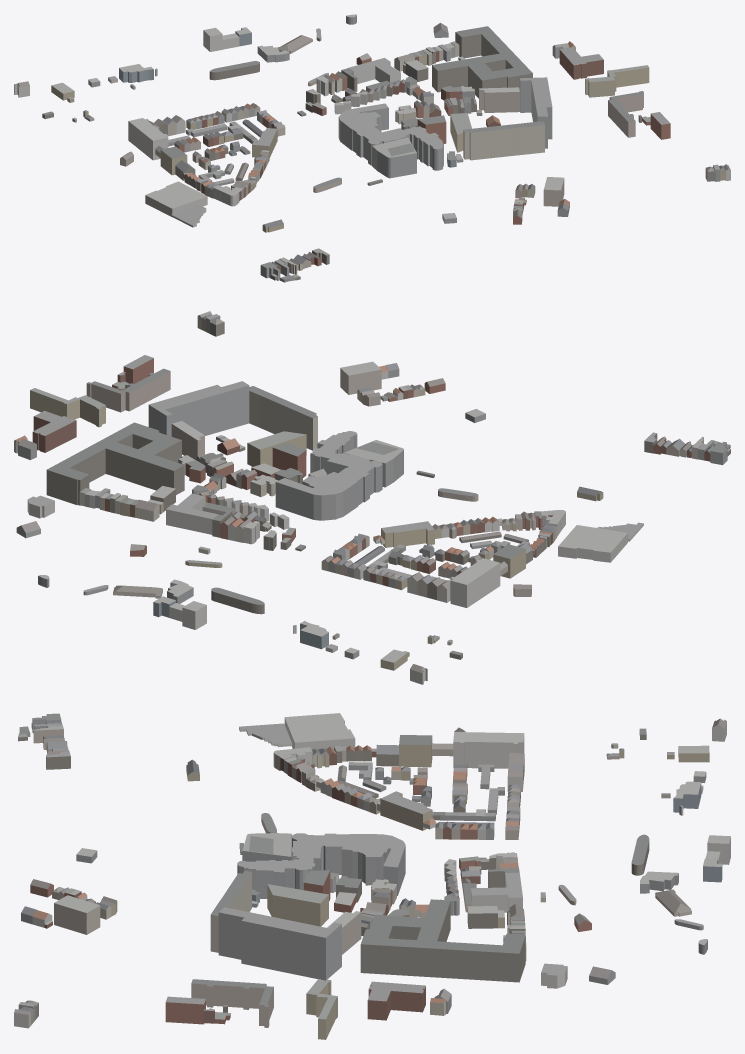
3 views of the same model, one above another, from view 1: azimuth 30°, elevation 25°; view 2: azimuth 150°, elevation 25°; view 3: azimuth 270°, elevation 25° (orthographic). The views are drawn at different scales.
Visible parts, largest first — view 1: relation/6034102, way/190597529, way/37742742, way/37742734, way/989412326, way/564403831, way/37742752, way/37742749, way/128382717, way/121384121, way/37742744, way/126130397 (+9 smaller); view 2: relation/6034102, way/190597529, way/37742734, way/37742742, way/37742749, way/989412326, way/128382717, way/37742752, way/121384121, way/126130397, way/839118203, way/128790932 (+9 smaller); view 3: relation/6034102, way/190597529, way/37742734, way/37742749, way/128382717, way/989412326, way/839118203, way/121384121, way/126832776, way/37742742, way/37742752, way/126130397 (+14 smaller).
Part boxes in pixels (left/top/right/bottom): relation/6034102: left=432, top=26, right=532, bottom=98; way/190597529: left=338, top=103, right=443, bottom=170; way/37742742: left=463, top=121, right=544, bottom=160; way/37742734: left=519, top=77, right=552, bottom=148; way/989412326: left=145, top=181, right=207, bottom=216; way/564403831: left=372, top=137, right=416, bottom=178; way/37742752: left=585, top=65, right=649, bottom=97; way/37742749: left=608, top=91, right=643, bottom=137; way/128382717: left=128, top=118, right=168, bottom=160; way/121384121: left=559, top=47, right=603, bottom=79; way/37742744: left=479, top=87, right=519, bottom=112; way/126130397: left=348, top=58, right=400, bottom=83; relation/6034102: left=46, top=422, right=184, bottom=505; way/190597529: left=275, top=431, right=382, bottom=520; way/37742734: left=148, top=381, right=249, bottom=436; way/37742742: left=249, top=386, right=317, bottom=450; way/37742749: left=86, top=368, right=170, bottom=412; way/989412326: left=558, top=525, right=627, bottom=562; way/128382717: left=450, top=558, right=500, bottom=607; way/37742752: left=30, top=388, right=105, bottom=427; way/121384121: left=32, top=410, right=76, bottom=452; way/126130397: left=166, top=493, right=217, bottom=534; way/839118203: left=247, top=431, right=306, bottom=466; way/128790932: left=381, top=521, right=434, bottom=547; relation/6034102: left=360, top=899, right=525, bottom=982; way/190597529: left=237, top=833, right=405, bottom=898; way/37742734: left=218, top=907, right=341, bottom=980; way/37742749: left=191, top=979, right=273, bottom=1027; way/128382717: left=453, top=732, right=524, bottom=768; way/989412326: left=284, top=713, right=355, bottom=749; way/839118203: left=267, top=884, right=328, bottom=926; way/121384121: left=367, top=981, right=425, bottom=1020; way/126832776: left=54, top=895, right=100, bottom=934; way/37742742: left=210, top=871, right=251, bottom=952; way/37742752: left=306, top=979, right=337, bottom=1039; way/126130397: left=471, top=872, right=522, bottom=912.
Size of the model in its own units: 547 by 38.41 by 513.
